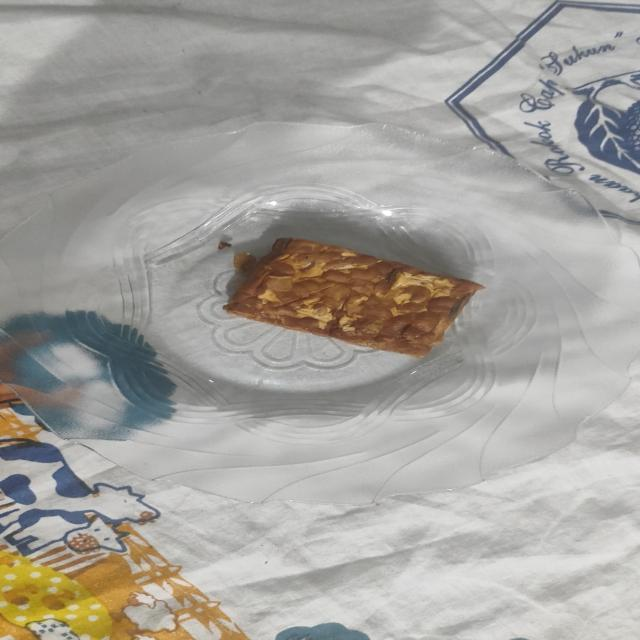tempe_goreng: (223, 238, 482, 358)
